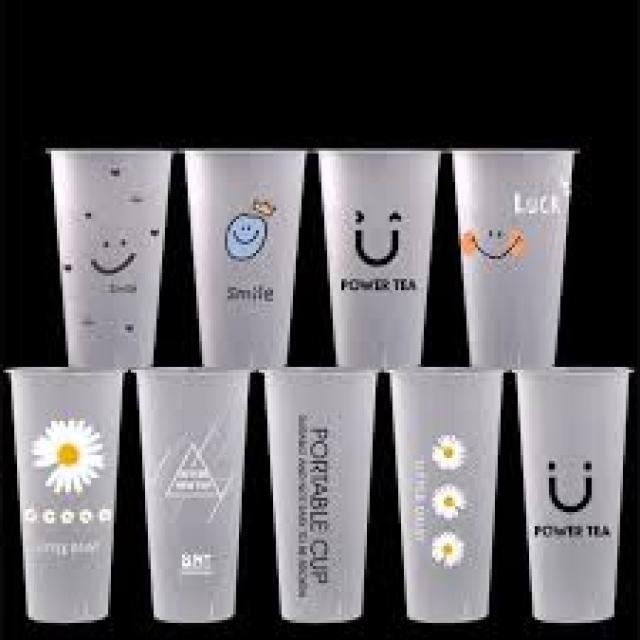cup: (498, 362, 639, 626), (9, 368, 122, 622), (265, 369, 376, 622), (141, 369, 250, 622), (393, 370, 502, 622), (454, 151, 574, 367), (50, 151, 169, 368), (321, 151, 440, 368), (187, 151, 305, 367)
